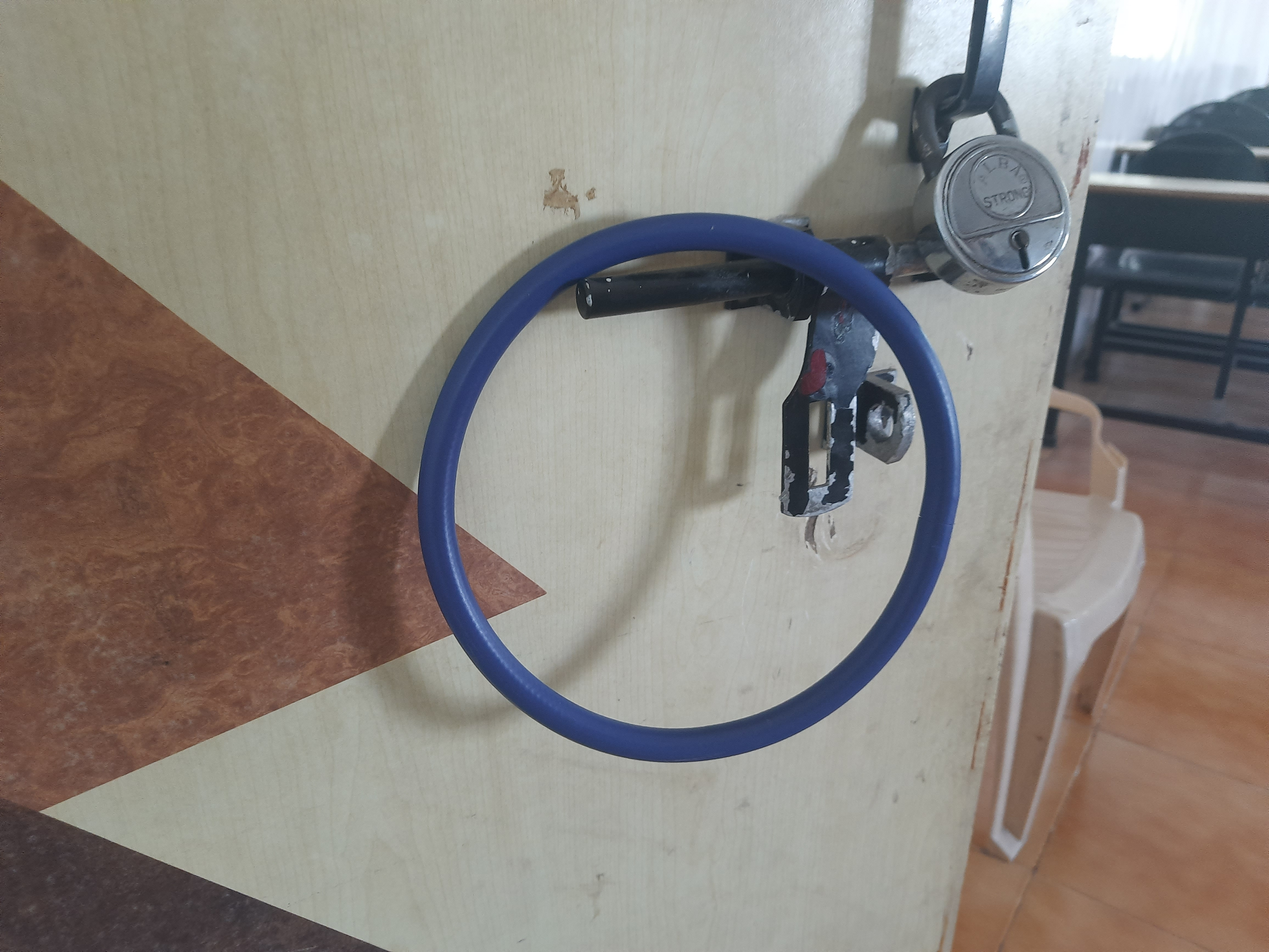Blue ring: (412, 211, 958, 758)
